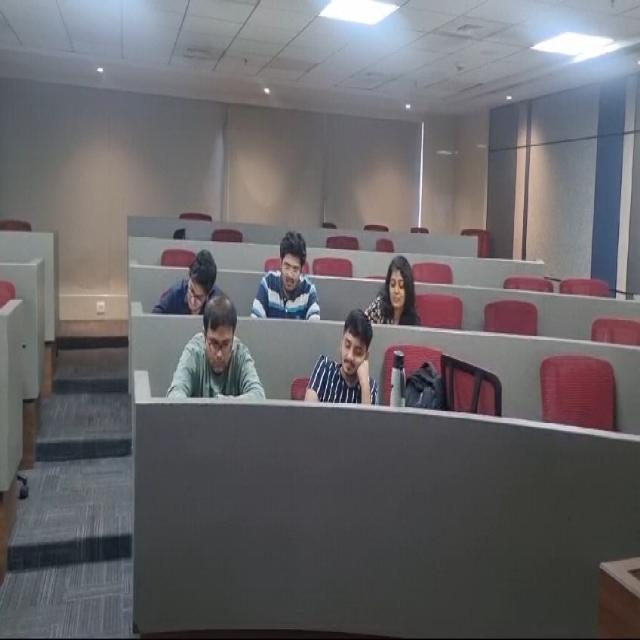non-cheating: (176, 290, 269, 402), (250, 223, 324, 319), (312, 303, 377, 407), (367, 238, 424, 338), (158, 235, 225, 316)
